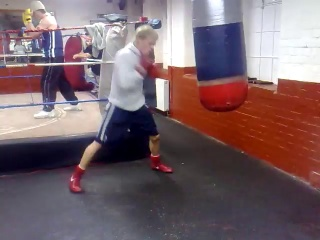person: (69, 23, 175, 192)
